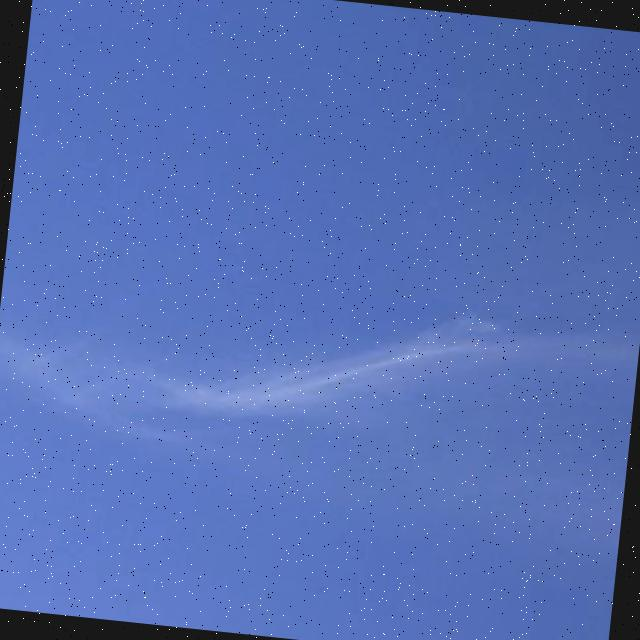Ci: (1, 248, 627, 518)
